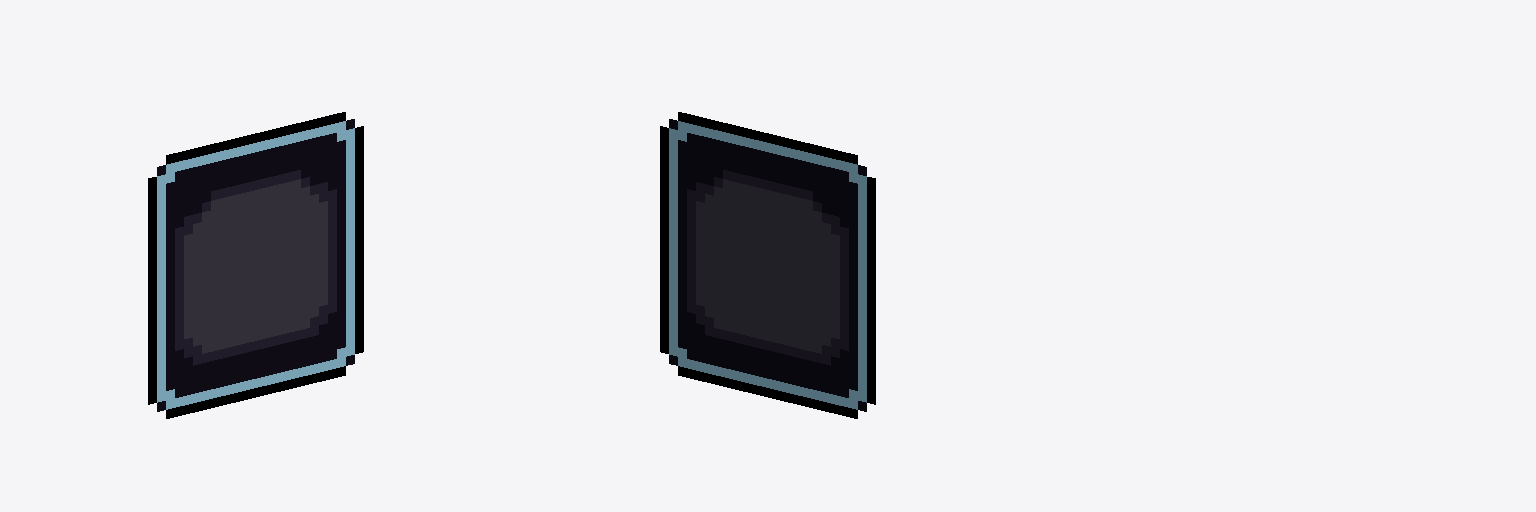
3 renders of one model, left to right at view 1: azimuth 30°, elevation 25°; view 2: azimuth 150°, elevation 25°; view 3: azimuth 270°, elevation 25°, orthographic.
Parts seen in each view (by area): view 1: Hotbar; view 2: Hotbar; view 3: none.
Boxes of the visible parts, box(x1,y1,x2,y2) form: Hotbar: box(148, 112, 363, 418); Hotbar: box(660, 112, 875, 418).
Bounding box in the file's own units: 2 × 2 × 0.
Materials: 1 (1 with a texture image).